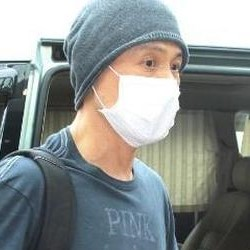mask: (96, 64, 180, 151)
